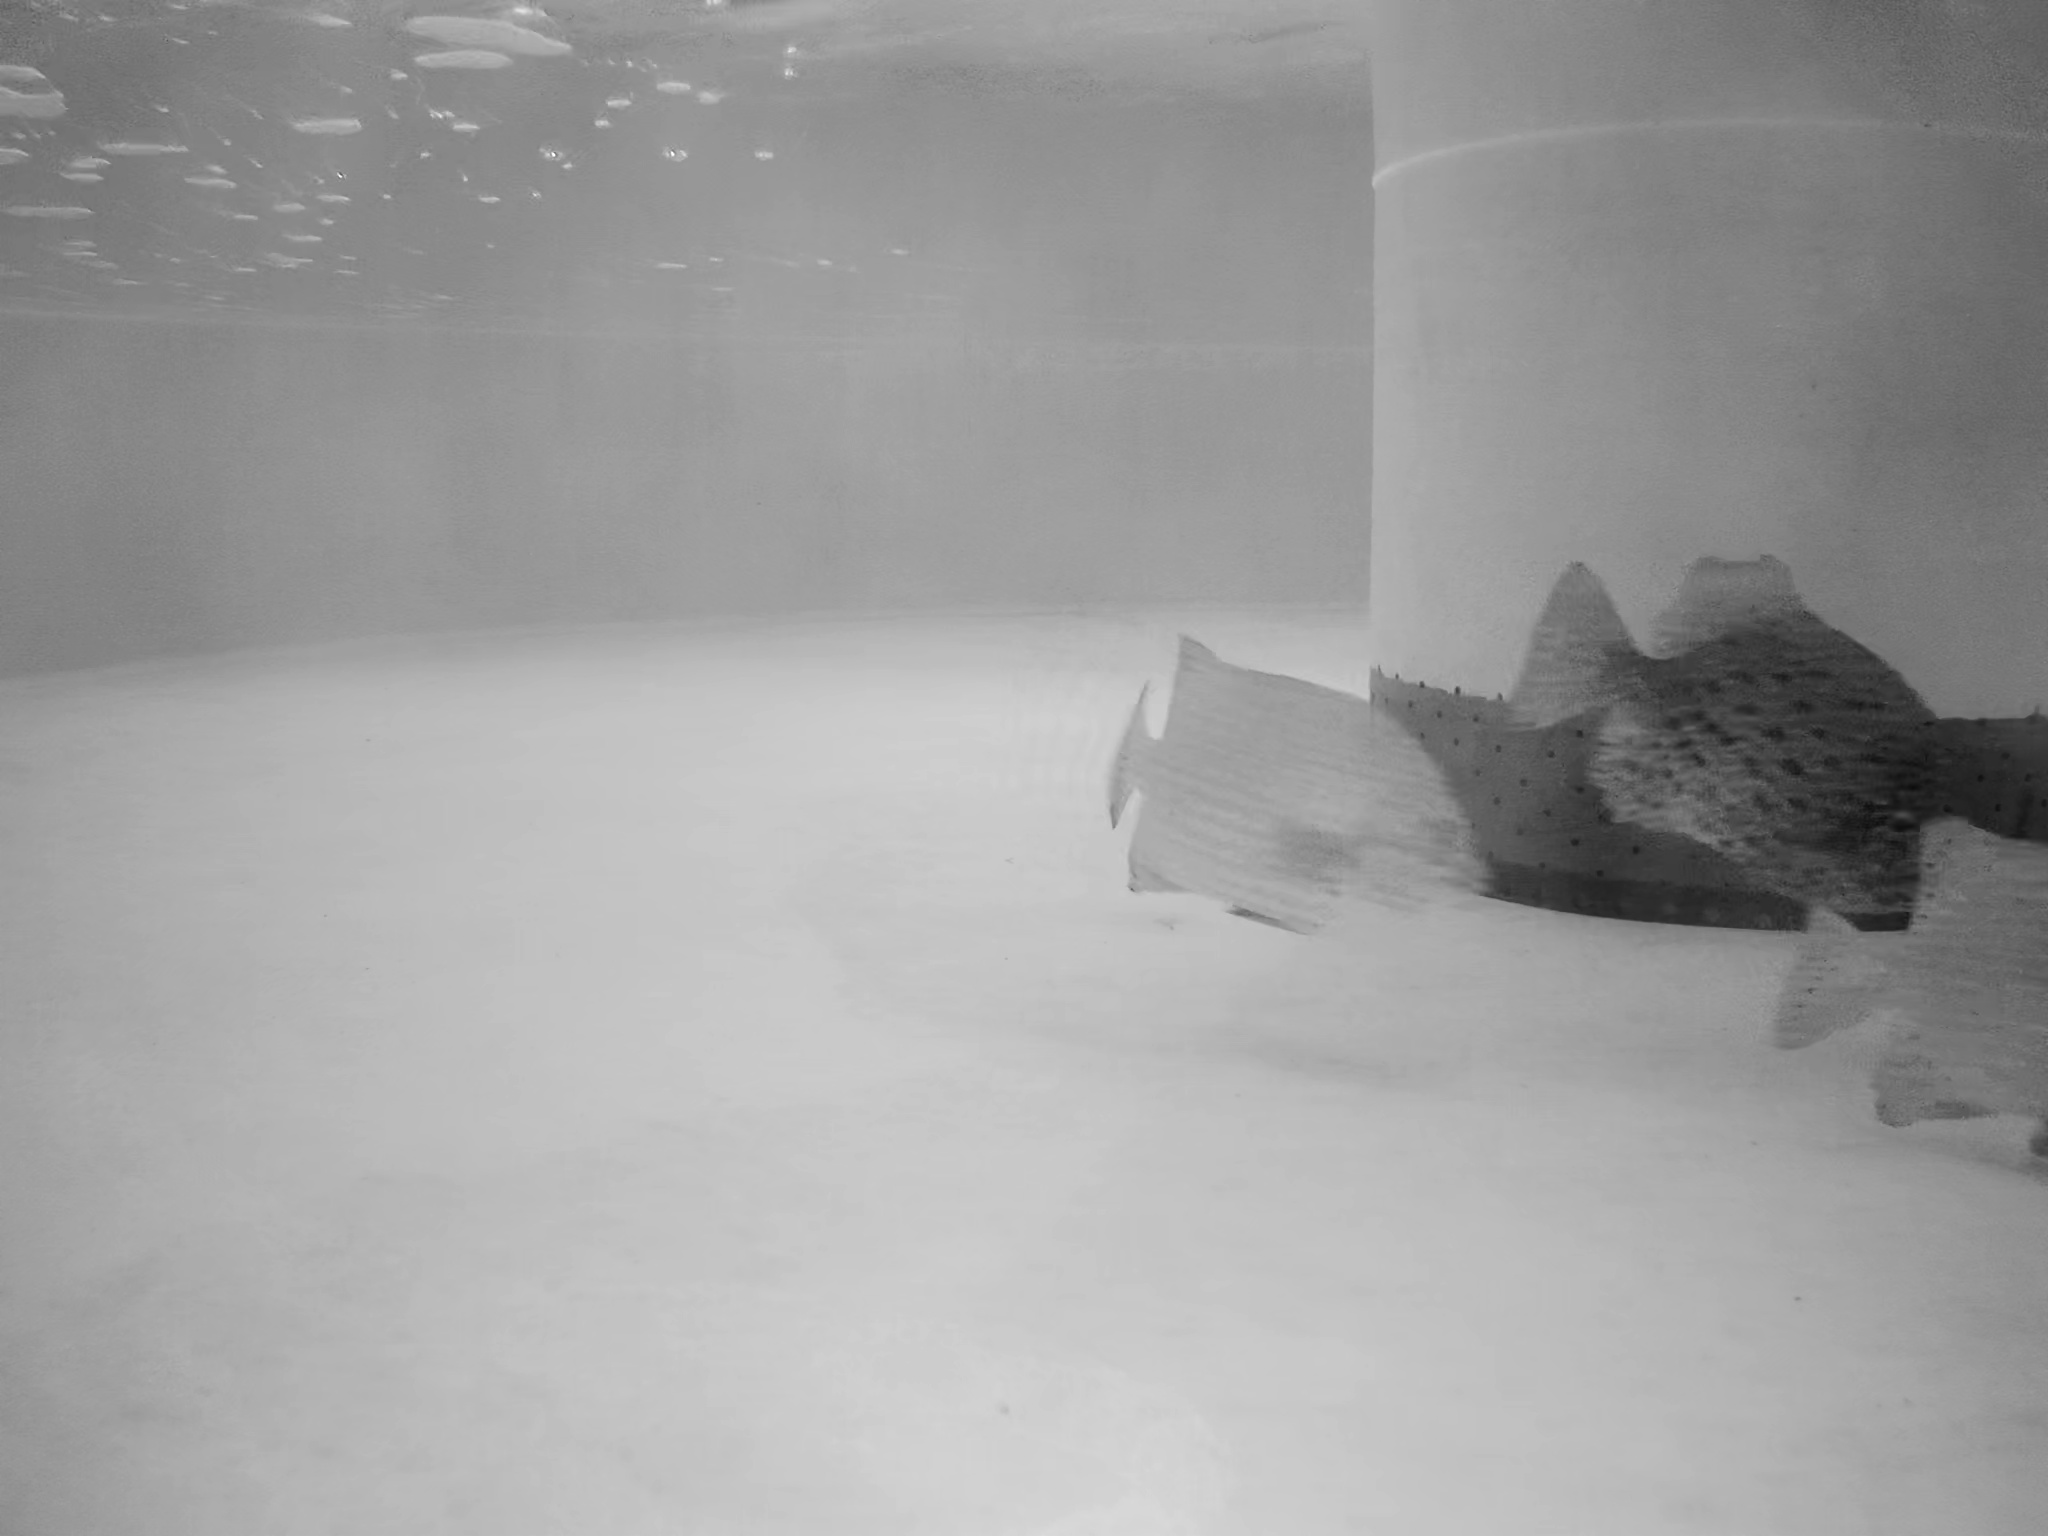fish: (1530, 553, 2014, 929), (1121, 637, 1495, 934), (1775, 807, 2048, 1152)
